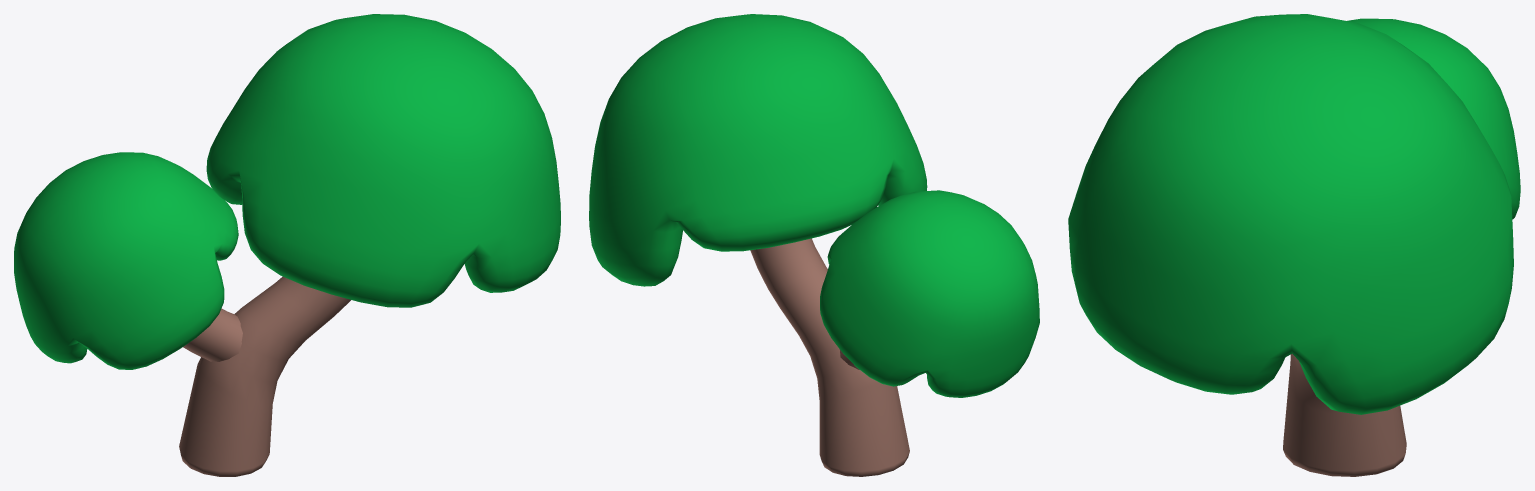
The model's file is Town_20_Bush_1.glb.
The picture shows the model from 3 angles, left to right: view 1: azimuth 30°, elevation 25°; view 2: azimuth 150°, elevation 25°; view 3: azimuth 270°, elevation 25°; orthographic projection. The views are drawn at different scales.
Parts seen in each view (by area): view 1: Town_20_Bush_1; view 2: Town_20_Bush_1; view 3: Town_20_Bush_1.
Part boxes in pixels (box(x1,y1,x2,y2)): Town_20_Bush_1: box(14, 14, 560, 476); Town_20_Bush_1: box(589, 14, 1039, 476); Town_20_Bush_1: box(1068, 14, 1520, 476).
Size of the model in its own units: 1.8 by 1.48 by 1.2.
1 material, 1 textured.
